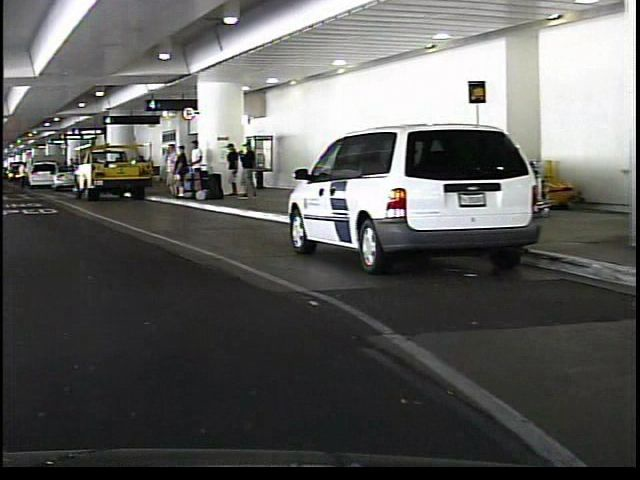person: (236, 141, 253, 201), (157, 141, 173, 199), (13, 160, 25, 190)
